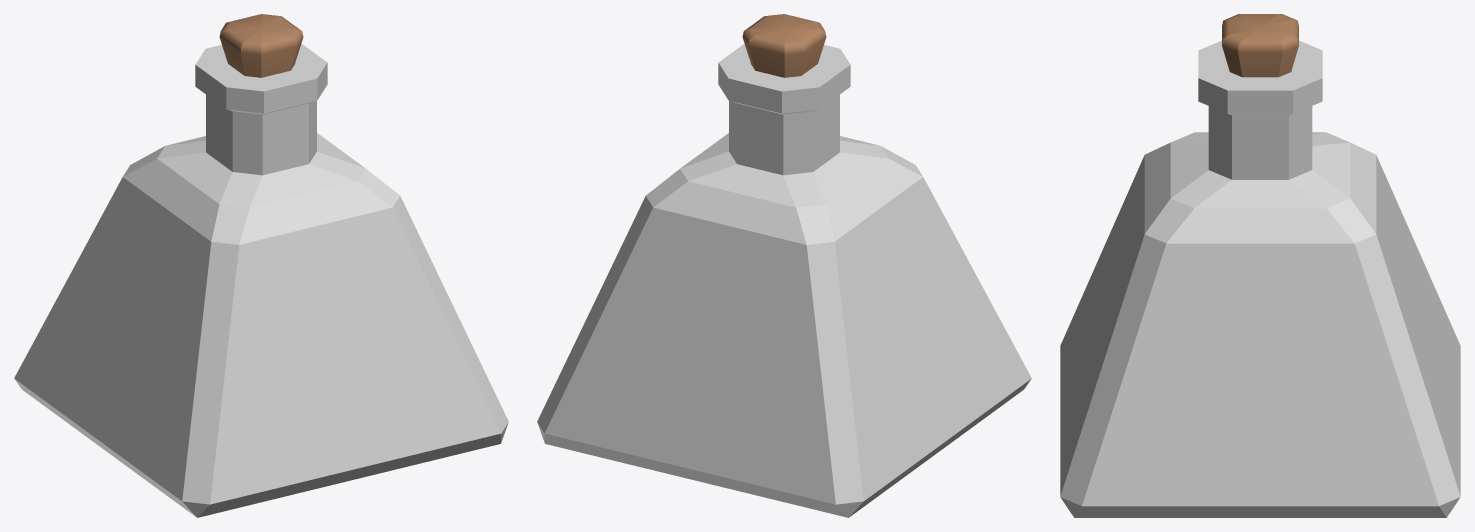
Rendered from mpPotion_model.fbx.
3 views of the same model, side by side, from view 1: azimuth 30°, elevation 25°; view 2: azimuth 150°, elevation 25°; view 3: azimuth 270°, elevation 25° (orthographic). The views are drawn at different scales.
Visible parts, largest first — view 1: ManaPotion, Corc.001; view 2: ManaPotion, Corc.001; view 3: ManaPotion, Corc.001.
Boxes of the visible parts, x1=… form: ManaPotion: x1=14, y1=43, x2=508, y2=517; Corc.001: x1=219, y1=14, x2=303, y2=77; ManaPotion: x1=537, y1=43, x2=1031, y2=517; Corc.001: x1=742, y1=14, x2=826, y2=77; ManaPotion: x1=1060, y1=40, x2=1460, y2=517; Corc.001: x1=1222, y1=14, x2=1298, y2=77.
Size of the model in its own units: 30.98 by 35.16 by 30.98.
